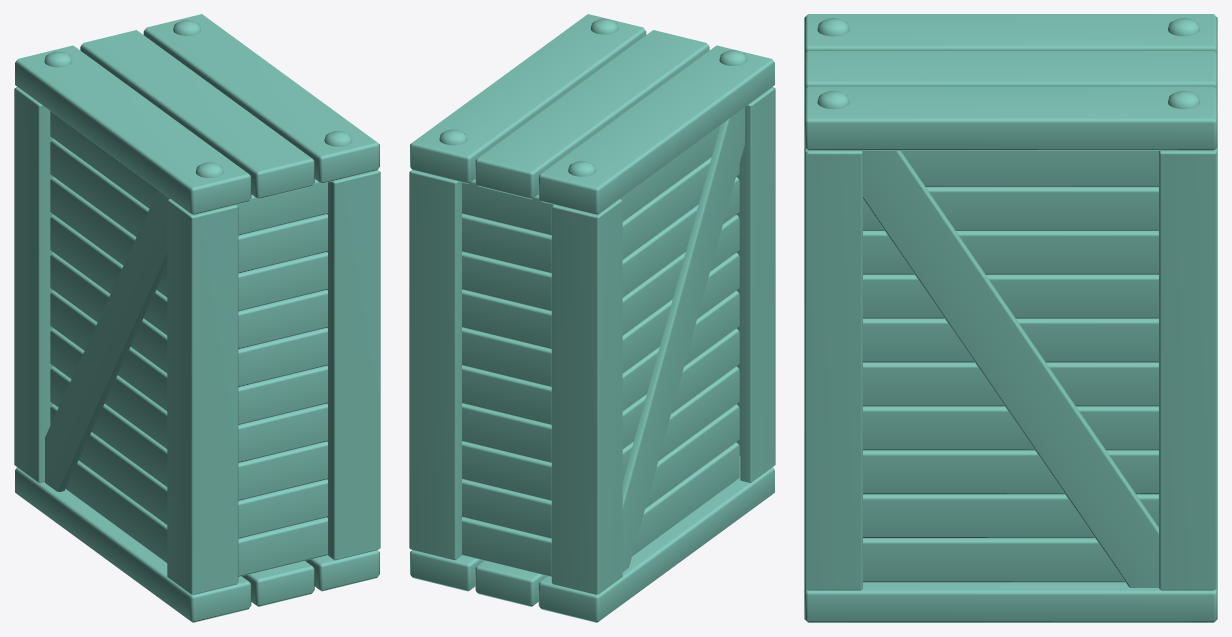
The model's file is HalloweenRoomA_CrateA.fbx.
3 renders of one model, left to right at view 1: azimuth 30°, elevation 25°; view 2: azimuth 150°, elevation 25°; view 3: azimuth 270°, elevation 25°, orthographic. The views are drawn at different scales.
Visible parts, largest first — view 1: HalloweenRoomA_CrateA; view 2: HalloweenRoomA_CrateA; view 3: HalloweenRoomA_CrateA.
Part boxes in pixels (bbox=[...]): HalloweenRoomA_CrateA: bbox=[14, 14, 380, 622]; HalloweenRoomA_CrateA: bbox=[409, 14, 775, 622]; HalloweenRoomA_CrateA: bbox=[804, 14, 1217, 622].
Size of the model in its own units: 35.6 by 79.48 by 57.92.
